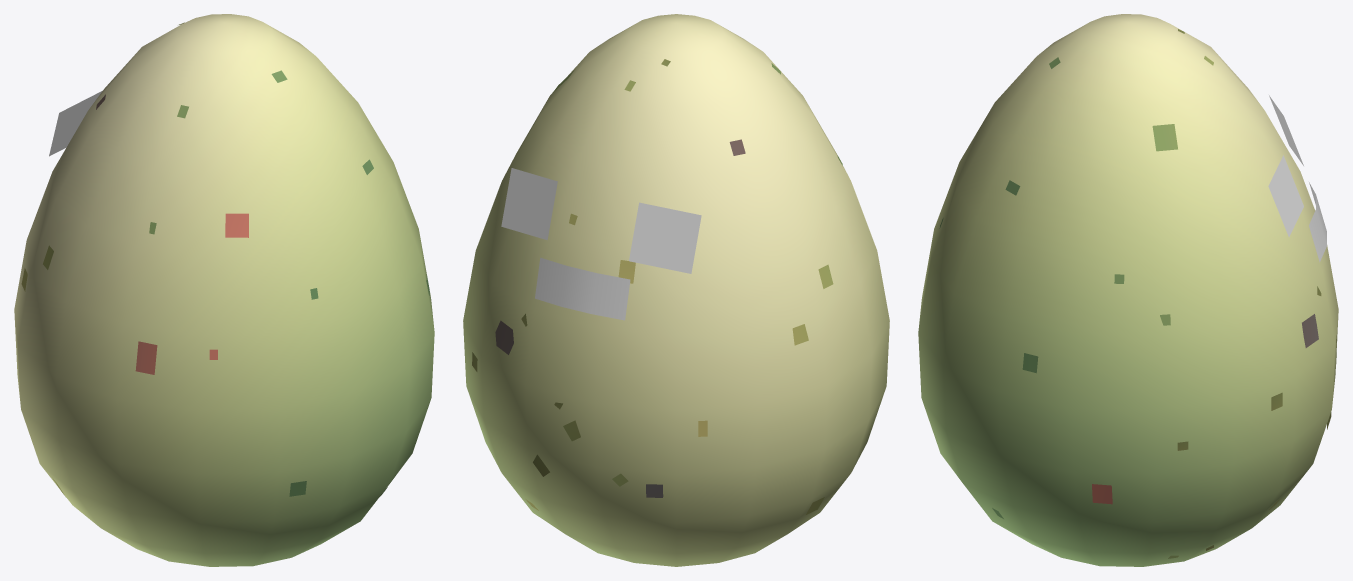
Rendered from duck_egg_smile.fbx.
The picture shows the model from 3 angles, left to right: view 1: azimuth 30°, elevation 25°; view 2: azimuth 150°, elevation 25°; view 3: azimuth 270°, elevation 25°; orthographic projection.
Parts seen in each view (by area): view 1: duck_egg_smile; view 2: duck_egg_smile; view 3: duck_egg_smile.
Boxes of the visible parts, bbox=[...] form: duck_egg_smile: bbox=[14, 14, 434, 566]; duck_egg_smile: bbox=[463, 14, 889, 566]; duck_egg_smile: bbox=[918, 14, 1338, 566].
Size of the model in its own units: 25.73 by 35.38 by 25.73.
Materials: 2 (1 with a texture image).
